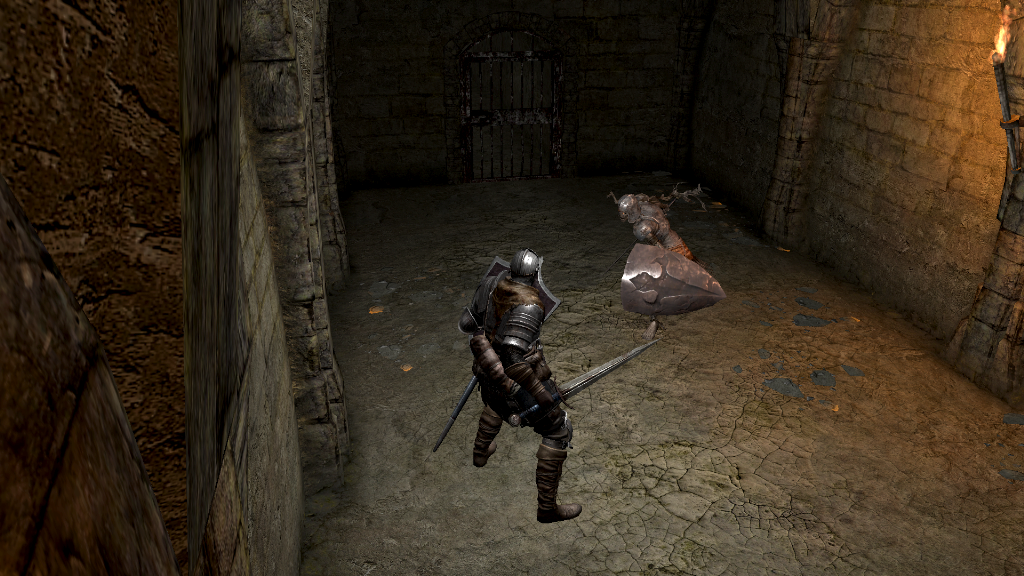player: (457, 248, 658, 526)
undeadSoldier: (607, 184, 704, 340)
